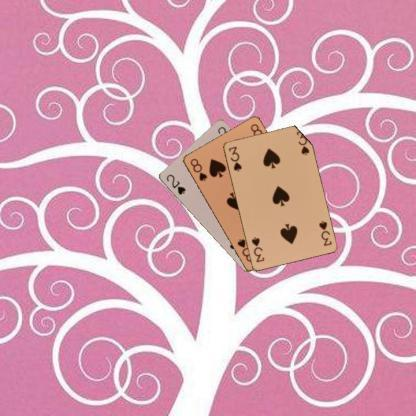2s: (164, 171, 186, 196)
3s: (226, 144, 243, 173), (316, 218, 333, 247)
8s: (187, 156, 208, 183)
